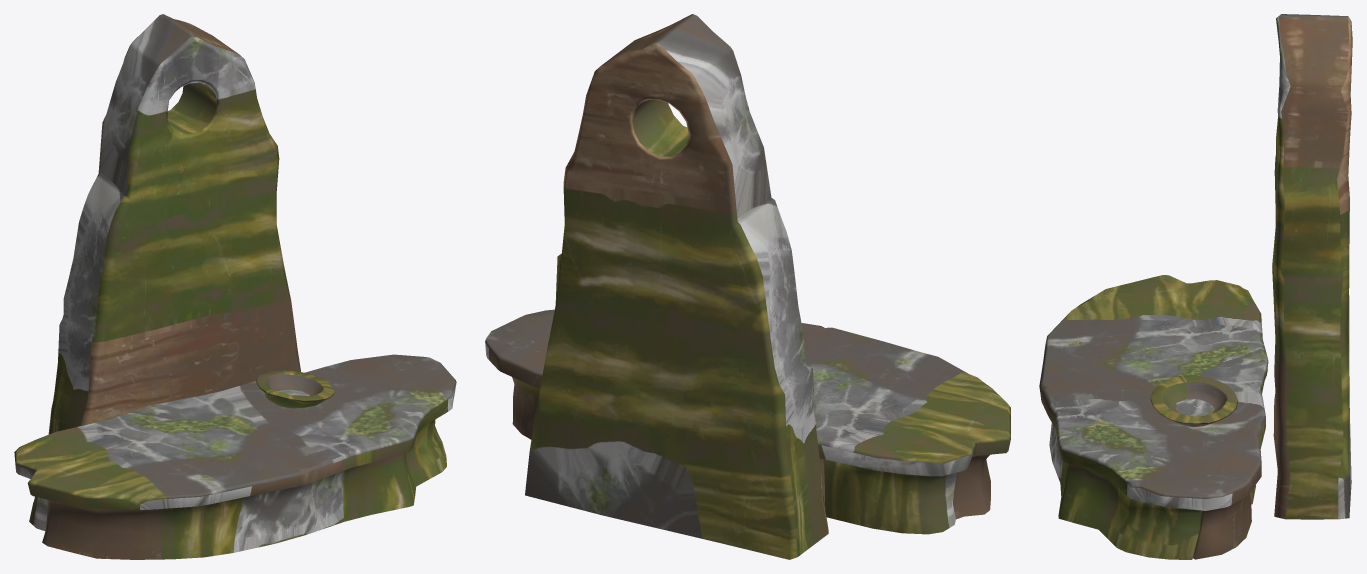
The picture shows the model from 3 angles, left to right: view 1: azimuth 30°, elevation 25°; view 2: azimuth 150°, elevation 25°; view 3: azimuth 270°, elevation 25°; orthographic projection. The views are drawn at different scales.
Parts seen in each view (by area): view 1: SM_LoggingAxe_Crude_2H_01_LOD0; view 2: SM_LoggingAxe_Crude_2H_01_LOD0; view 3: SM_LoggingAxe_Crude_2H_01_LOD0.
Part boxes in pixels (x1,y1,x2,y2): SM_LoggingAxe_Crude_2H_01_LOD0: (14,14,456,559); SM_LoggingAxe_Crude_2H_01_LOD0: (485,14,1010,559); SM_LoggingAxe_Crude_2H_01_LOD0: (1039,14,1352,559).
Size of the model in its own units: 4.82 by 4.49 by 2.87.
